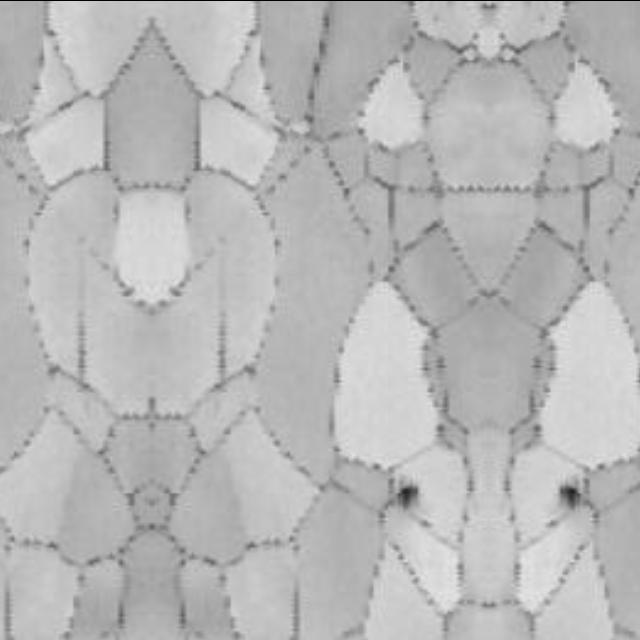good_void: (391, 482, 421, 509), (556, 482, 585, 509)
